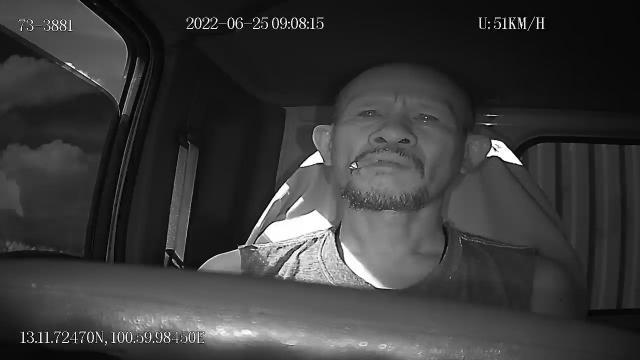SafeDriving: (405, 103, 445, 132), (350, 100, 389, 126)
Smoking: (349, 158, 378, 170)
